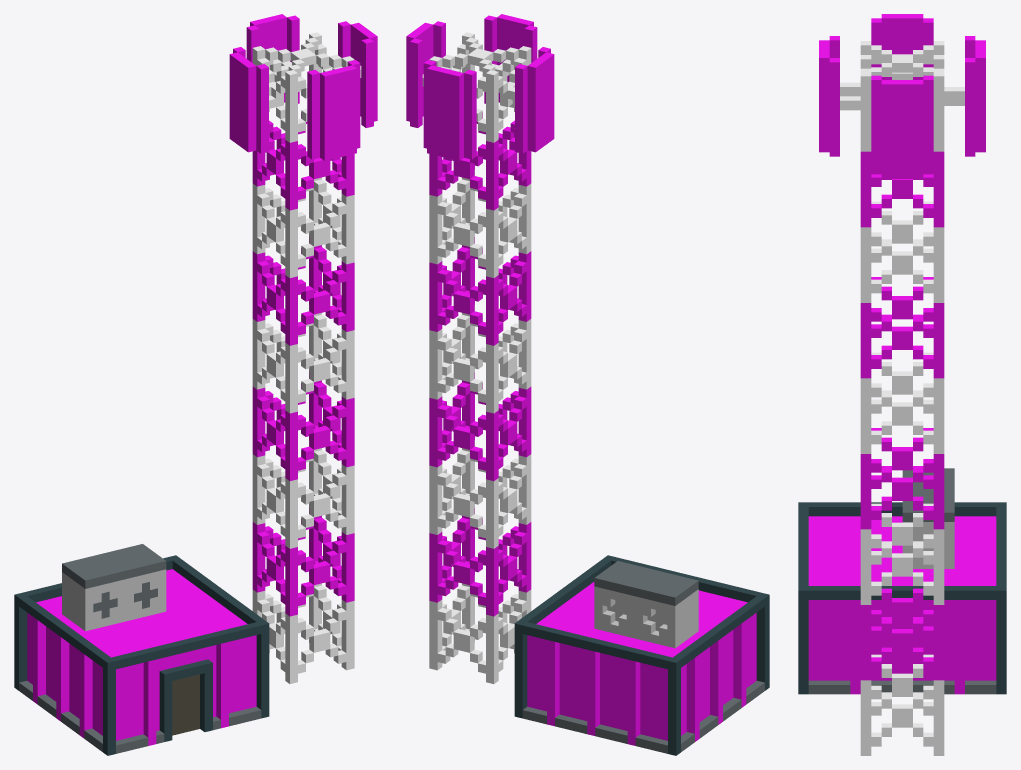
Rendered from tower.obj.
The picture shows the model from 3 angles, left to right: view 1: azimuth 30°, elevation 25°; view 2: azimuth 150°, elevation 25°; view 3: azimuth 270°, elevation 25°; orthographic projection. The views are drawn at different scales.
Bounding box in the file's own units: 3.8 × 7.3 × 2.
Materials: 1 (1 with a texture image).
